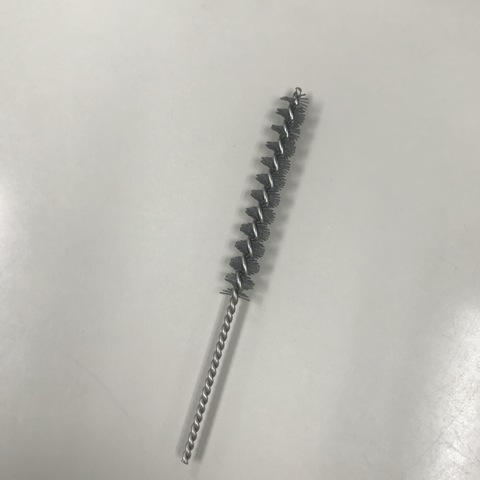Twist Brush-A: (173, 89, 310, 462)
